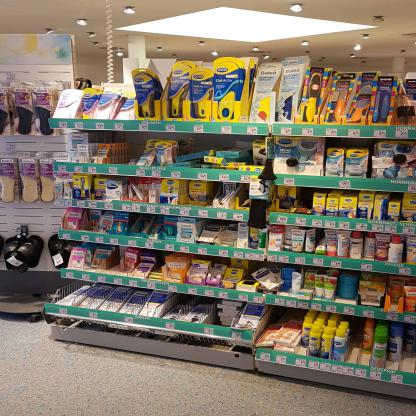Void: (272, 306, 303, 322), (124, 132, 138, 164)
